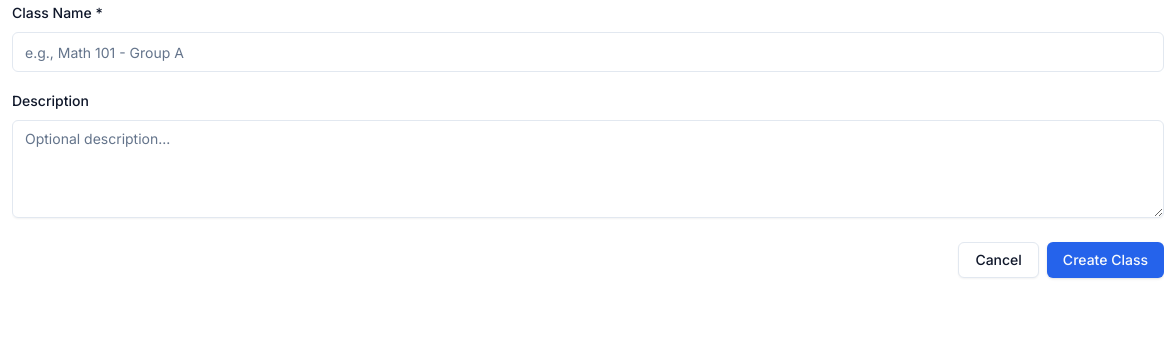
CreateClassForm › shows validation error when name is empty
The width and height of the screenshot is (1176, 356).
Click the button "Create Class" at coordinates (1105, 260), box [1047,242,1164,278]
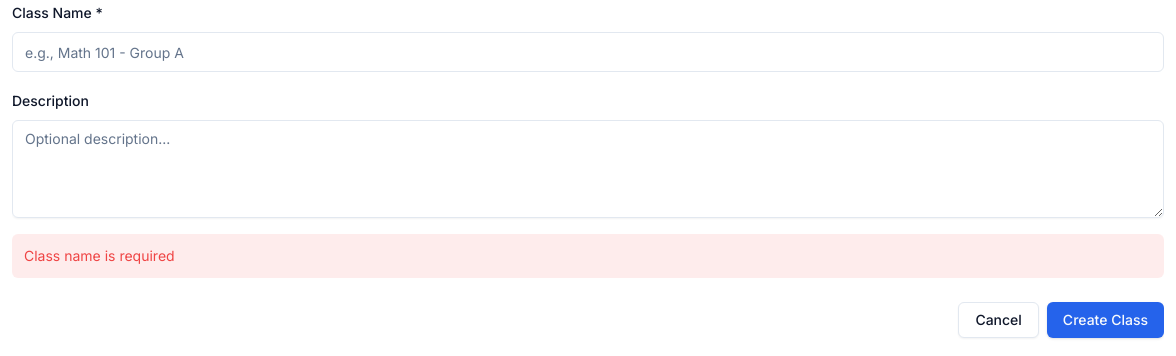
Result: the text "Class name is required" is shown at [12,234,1164,278]
